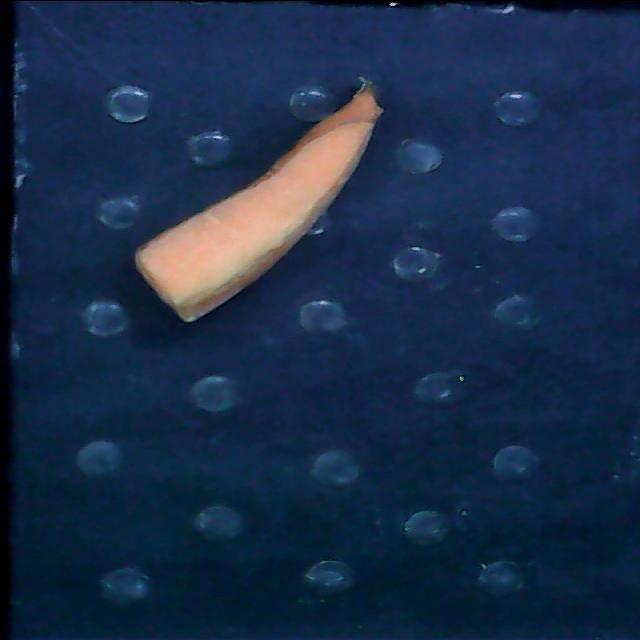-Kitchen waste - carrot-: (136, 78, 394, 316)
